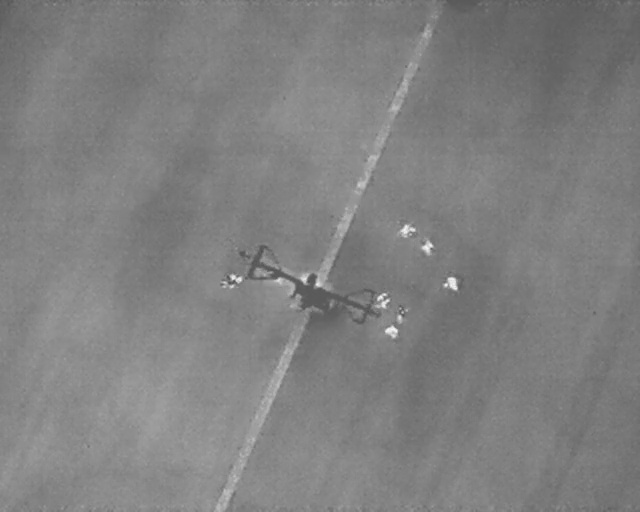Person: (216, 270, 238, 291), (223, 274, 246, 293), (397, 221, 416, 239), (443, 275, 459, 293), (376, 292, 391, 310), (396, 303, 407, 326), (383, 324, 399, 339), (420, 238, 434, 255)
